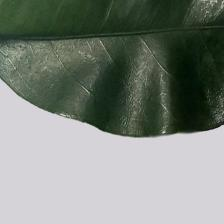healthy: (0, 0, 224, 127)
